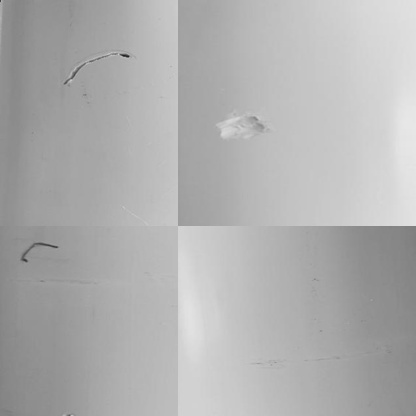fengxi: (64, 49, 134, 95), (23, 241, 65, 270)
sunshang: (211, 112, 264, 143)
